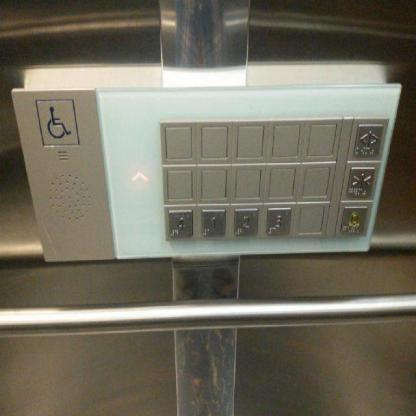1: (199, 206, 227, 238)
2: (232, 206, 259, 237)
3: (264, 204, 290, 236)
4: (168, 208, 195, 239)
CH: (34, 99, 78, 146)
alarm: (340, 204, 368, 238)
close: (346, 164, 376, 199)
open: (353, 122, 383, 160)
